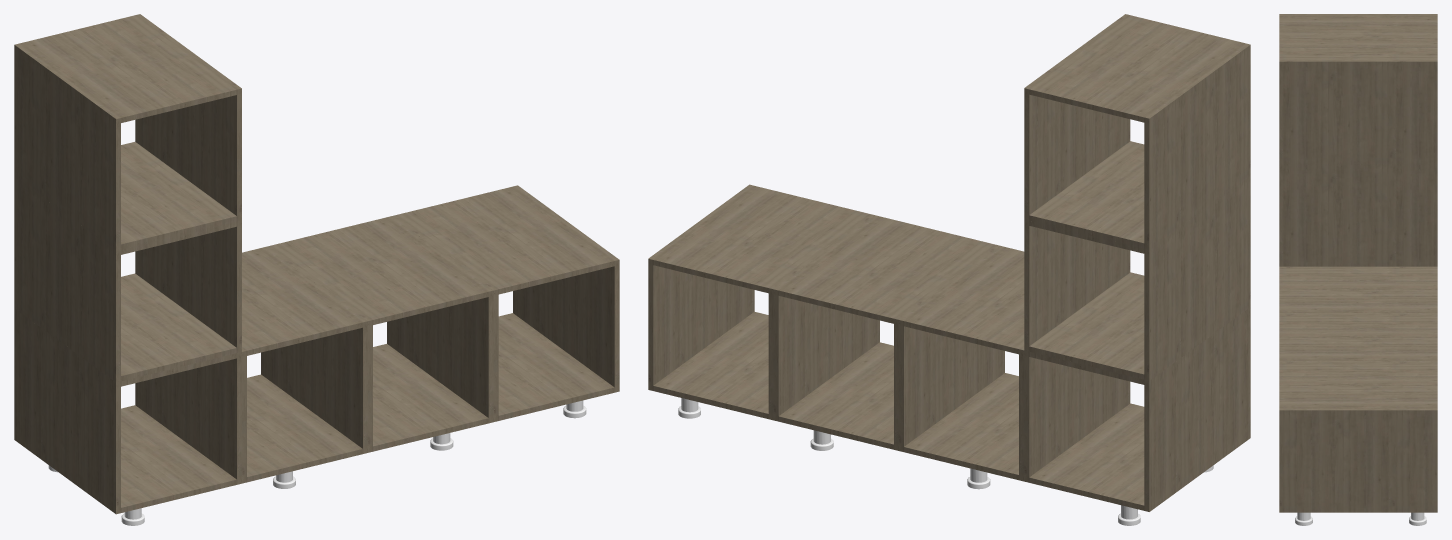
3 views of the same model, side by side, from view 1: azimuth 30°, elevation 25°; view 2: azimuth 150°, elevation 25°; view 3: azimuth 270°, elevation 25° (orthographic). The views are drawn at different scales.
Parts seen in each view (by area): view 1: Box008, Box007, Box004, Box001, Box002, Box003; view 2: Box008, Box007, Box004, Box001, Box002, Box003; view 3: Box001, Box008, Box007, Box002, Box003, Cylinder011, Cylinder012.
Part boxes in pixels (left/top/right/bottom): Box008: left=14, top=14, right=241, bottom=250; Box007: left=14, top=176, right=241, bottom=382; Box004: left=14, top=308, right=241, bottom=514; Box001: left=392, top=185, right=619, bottom=421; Box002: left=266, top=216, right=493, bottom=452; Box003: left=242, top=247, right=367, bottom=483; Box008: left=1024, top=14, right=1250, bottom=249; Box007: left=1024, top=176, right=1250, bottom=380; Box004: left=1024, top=307, right=1250, bottom=511; Box001: left=648, top=184, right=874, bottom=420; Box002: left=773, top=215, right=999, bottom=450; Box003: left=899, top=245, right=1024, bottom=481; Box001: left=1279, top=362, right=1437, bottom=512; Box008: left=1279, top=14, right=1437, bottom=164; Box007: left=1279, top=164, right=1437, bottom=266; Box002: left=1279, top=314, right=1437, bottom=362; Box003: left=1279, top=266, right=1437, bottom=314; Cylinder011: left=1295, top=512, right=1312, bottom=525; Cylinder012: left=1409, top=512, right=1426, bottom=525.
Bounding box in the file's own units: 2 × 1.6 × 0.7.
Materials: 2 (1 with a texture image).
